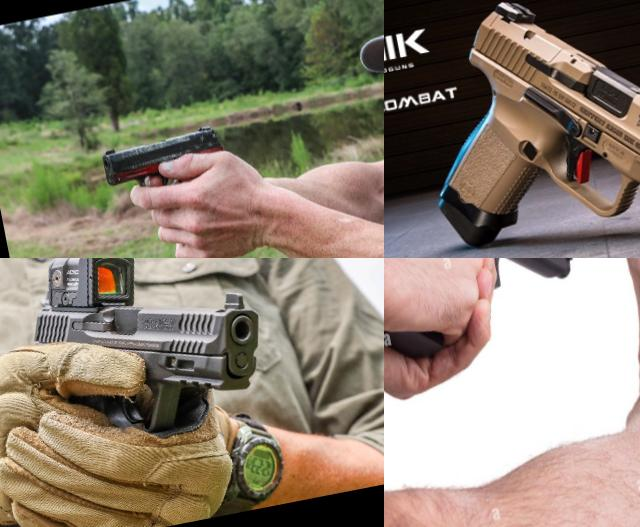handgun: (398, 0, 640, 258), (15, 258, 287, 476), (384, 258, 600, 403), (96, 120, 238, 224)
